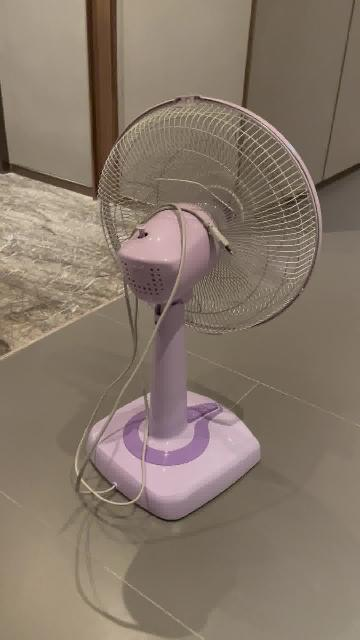Fan: (86, 96, 322, 524)
